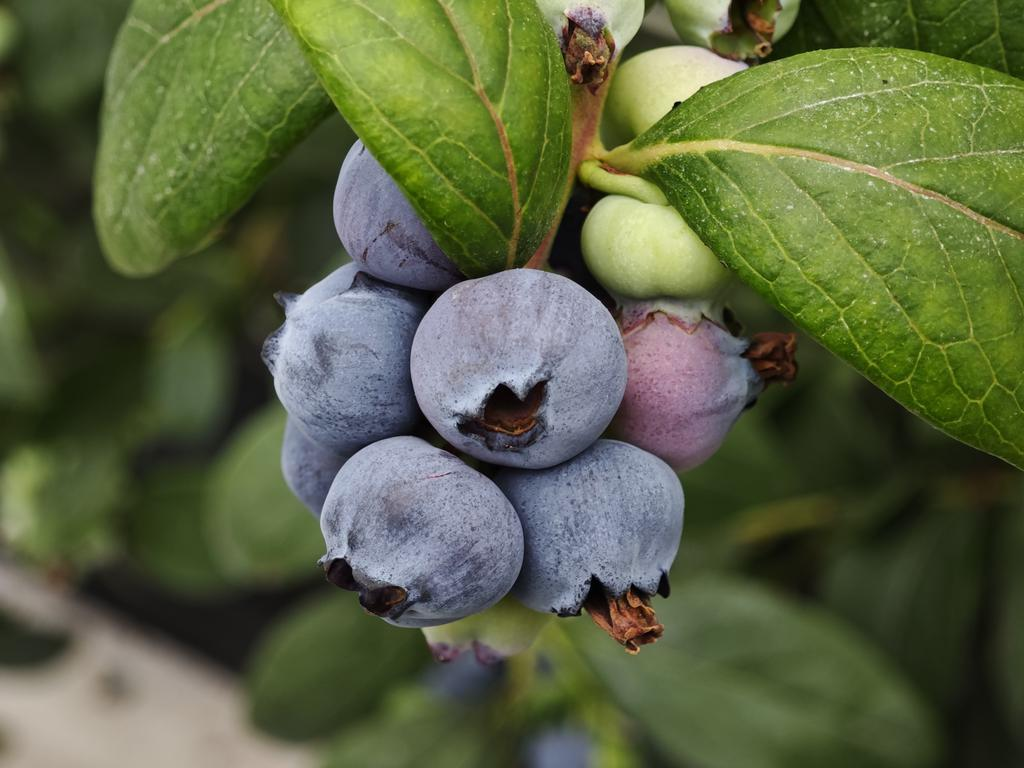RipeBlueBerry: (407, 265, 631, 473), (315, 432, 526, 630), (510, 438, 689, 634)
Semi-RipeBlueBerry: (619, 298, 766, 476)
